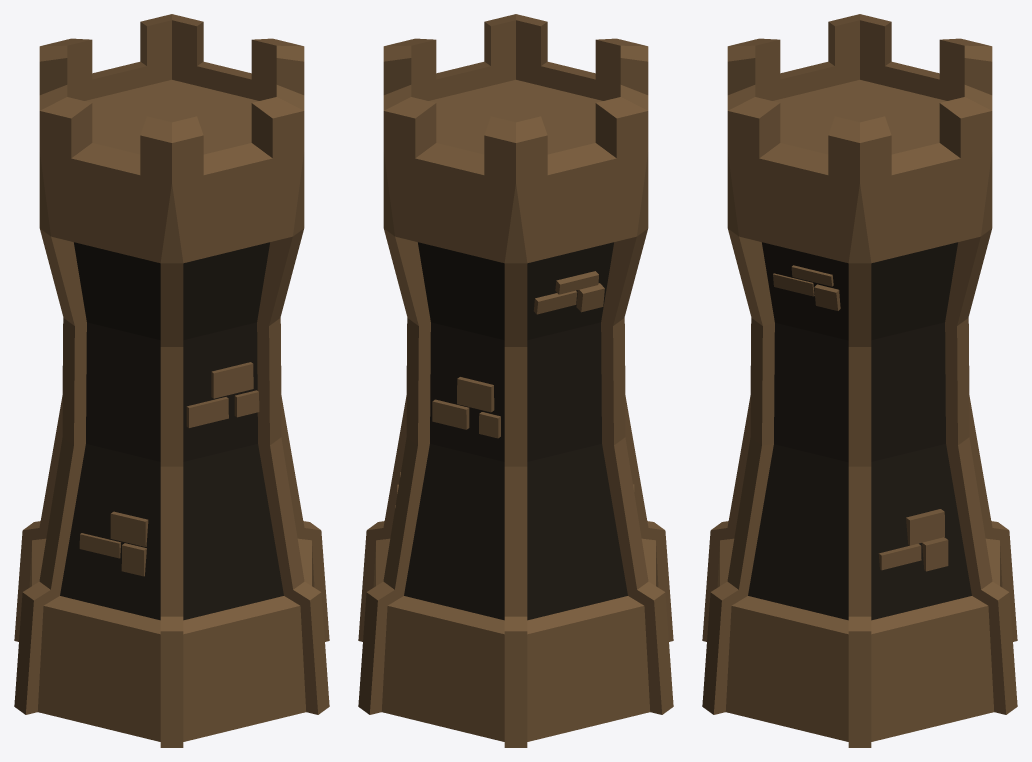
File: P_Tower_LVL3-2.FBX
3 views of the same model, side by side, from view 1: azimuth 30°, elevation 25°; view 2: azimuth 150°, elevation 25°; view 3: azimuth 270°, elevation 25° (orthographic).
Visible parts, largest first — view 1: P_tower_LVL3; view 2: P_tower_LVL3; view 3: P_tower_LVL3.
Boxes of the visible parts, x1,y1,x2,y2 form: P_tower_LVL3: (14, 14, 329, 747); P_tower_LVL3: (358, 14, 673, 747); P_tower_LVL3: (702, 14, 1017, 747).
Size of the model in its own units: 21.57 by 40.86 by 19.38.
